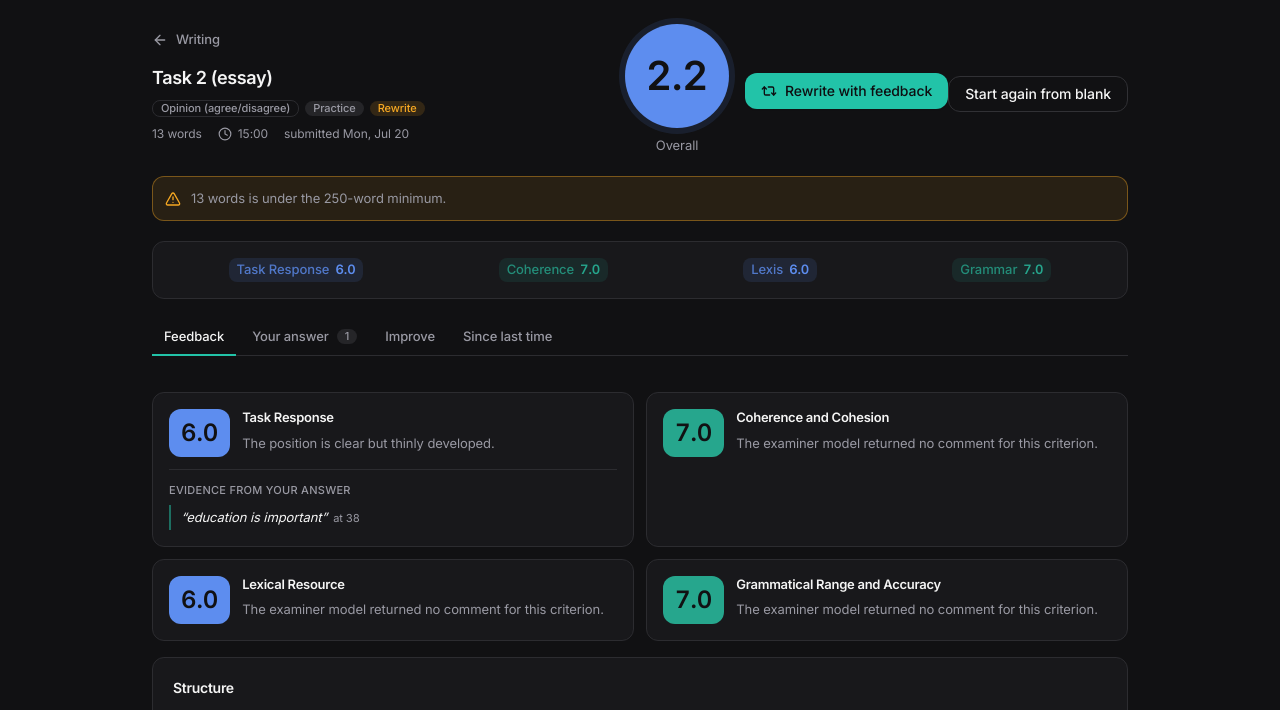
it: AttemptReport › shows the diff and band delta for a rewrite
The width and height of the screenshot is (1280, 710).
Click the tab "Since last time".
click(508, 337)  # box [451,318,564,356]
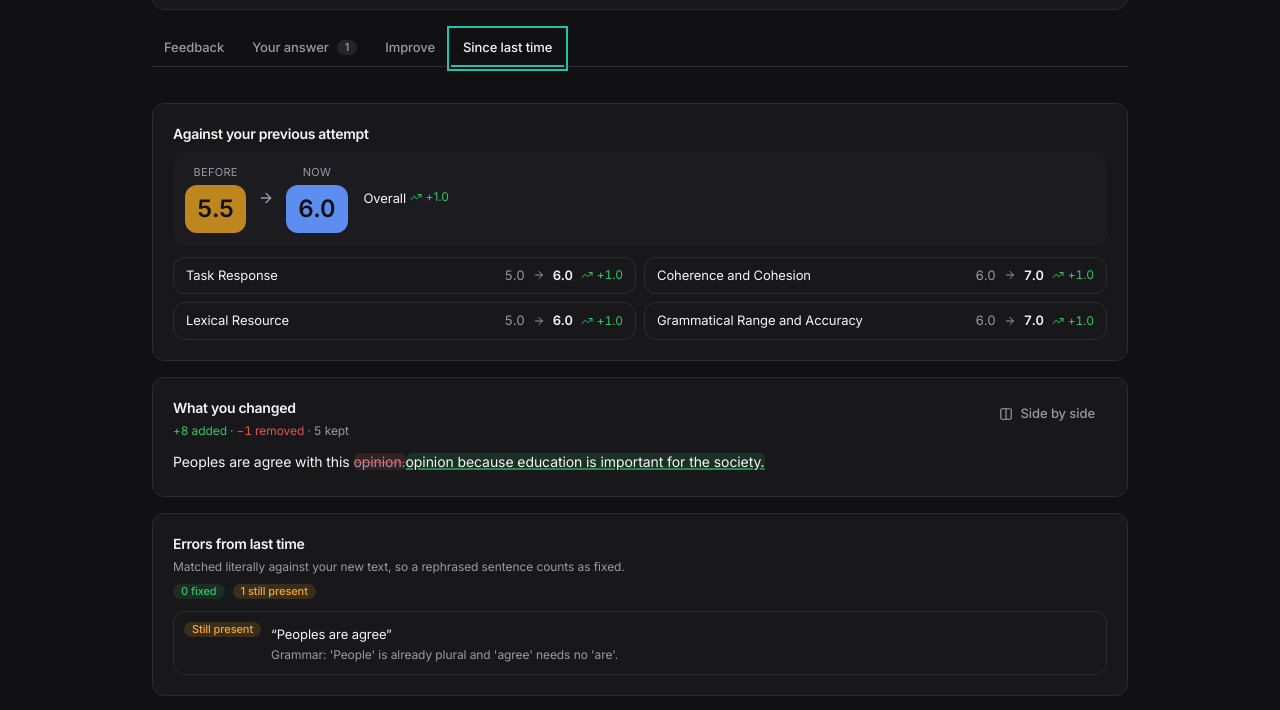
Expected: the heading "Against your previous attempt" is shown, [173,125,369,142]
Expected: the heading "What you changed" is shown, [173,398,296,416]
Expected: the text "1 still present" is shown, [233,584,316,598]
